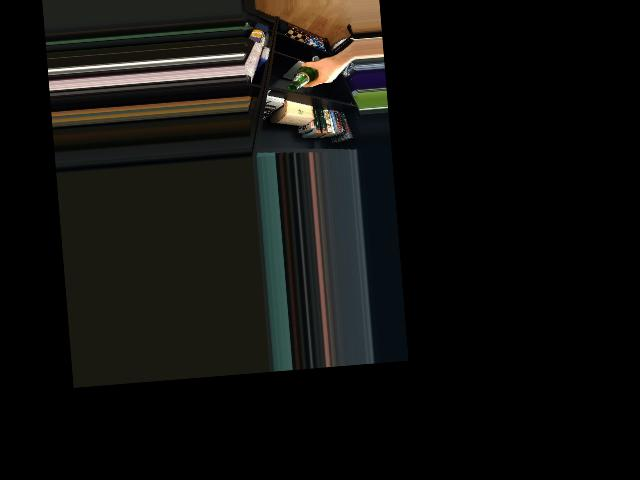beer: (285, 59, 322, 91)
